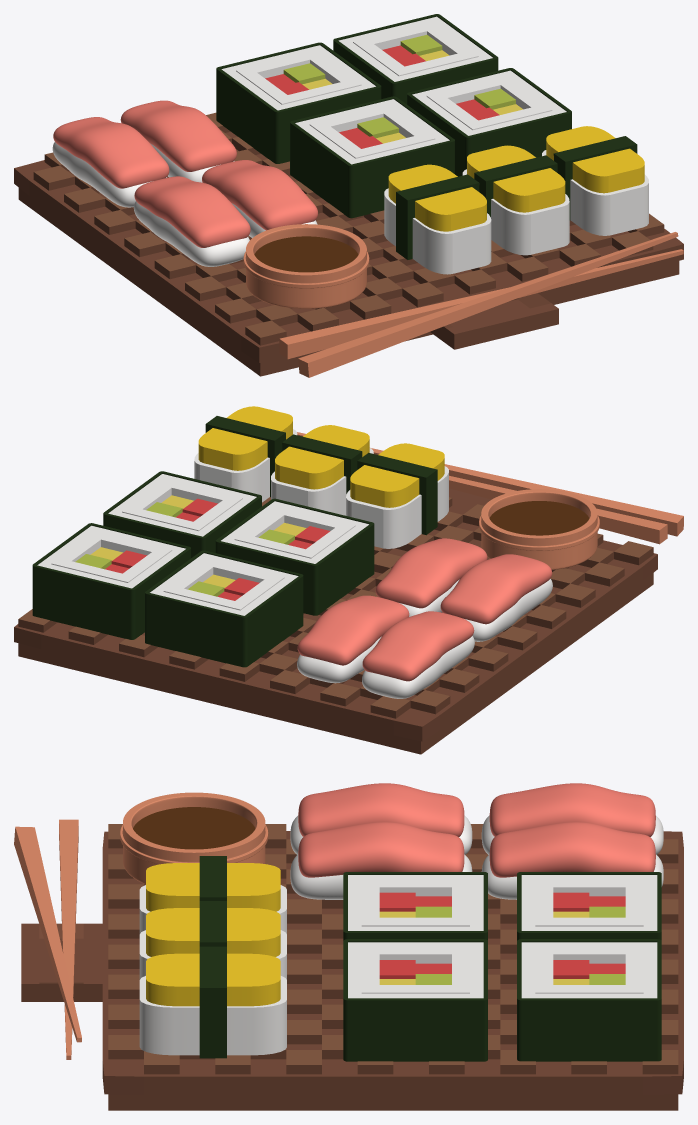
Rendered from sushi.fbx.
3 renders of one model, top to bottom at view 1: azimuth 30°, elevation 25°; view 2: azimuth 150°, elevation 25°; view 3: azimuth 270°, elevation 25°, orthographic. The views are drawn at different scales.
Visible parts, largest first — view 1: Cube, Plane, Plane.001, Plane.003, Plane.002, Cylinder, Cube.006, Cube.008, Cube.003, Cube.002, Cube.009, Cube.005 (+3 smaller); view 2: Cube, Plane, Plane.001, Plane.003, Plane.002, Cylinder, Cube.003, Cube.008, Cube.002, Cube.009, Circle, Cube.006 (+4 smaller); view 3: Plane, Cube, Plane.003, Cube.009, Cube.002, Plane.002, Plane.001, Cube.003, Cube.008, Cylinder, Circle, Cube.006 (+5 smaller).
Part boxes in pixels (x1,y1,x2,y2): Cube: (216,14,571,218); Plane: (14,112,683,376); Plane.001: (384,164,491,274); Plane.003: (542,126,648,235); Plane.002: (462,145,569,255); Cylinder: (243,224,369,308); Cube.006: (298,232,678,377); Cube.008: (134,176,250,247); Cube.003: (53,117,169,188); Cube.002: (120,100,236,171); Cube.009: (202,160,317,230); Cube.005: (279,249,683,359); Cube: (32,471,374,667); Plane: (14,488,657,754); Plane.001: (346,443,448,548); Plane.003: (194,406,297,502); Plane.002: (271,425,373,515); Cylinder: (479,489,599,569); Cube.003: (362,611,474,681); Cube.008: (440,554,552,624); Cube.002: (297,595,409,665); Cube.009: (375,538,487,608); Circle: (489,501,589,535); Cube.006: (297,432,683,536); Plane: (21,824,683,1110); Cube: (343,872,661,1061); Plane.003: (139,946,286,1058); Cube.009: (298,822,464,877); Cube.002: (489,822,655,877); Plane.002: (139,901,286,979); Plane.001: (139,856,286,933); Cube.003: (489,783,655,836); Cube.008: (298,783,464,836); Cylinder: (120,792,268,884); Circle: (133,807,255,849); Cube.006: (14,826,81,1042).
Size of what is drawn, in the model's own units: 804 by 184 by 926.
